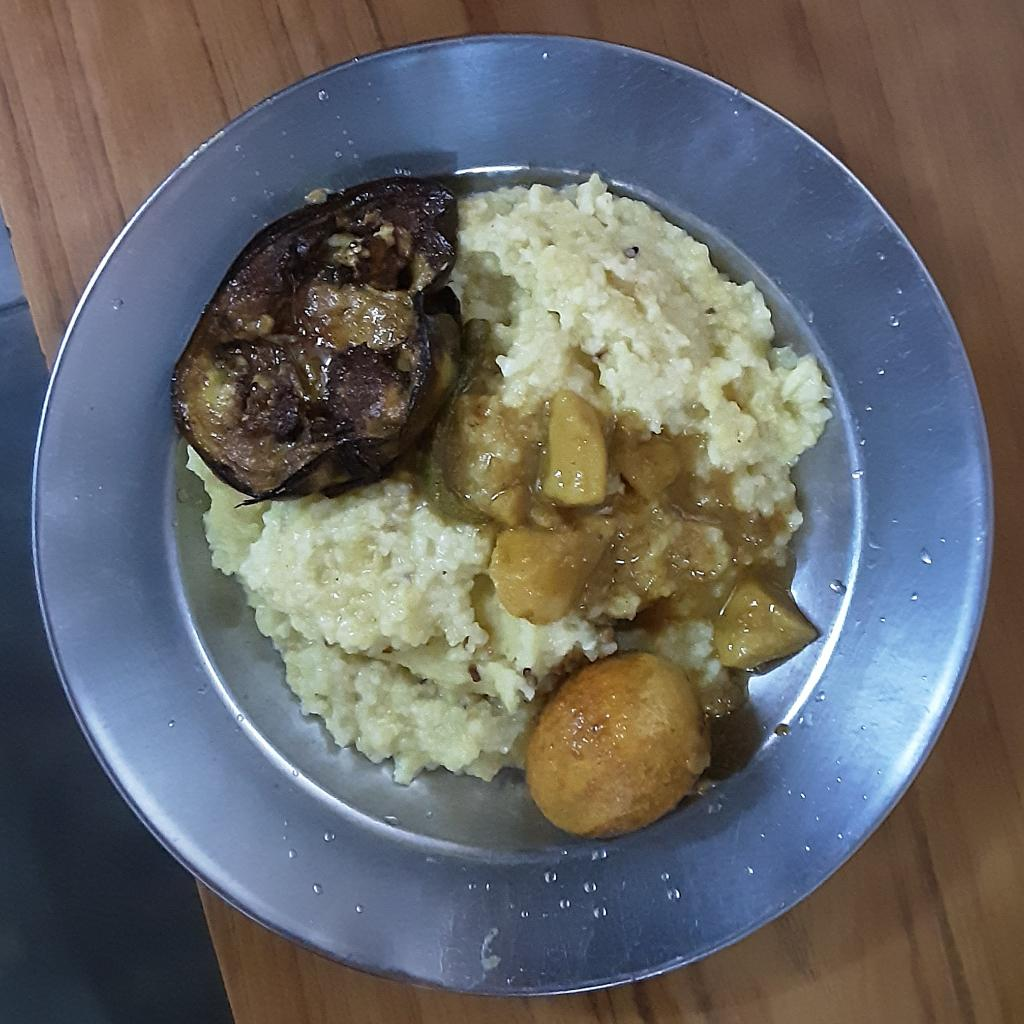begun-vaji: (171, 172, 468, 499)
egg-boiled: (519, 655, 718, 841)
potato: (487, 531, 608, 626), (710, 577, 823, 678), (537, 399, 626, 513)
rice: (189, 172, 832, 783)
